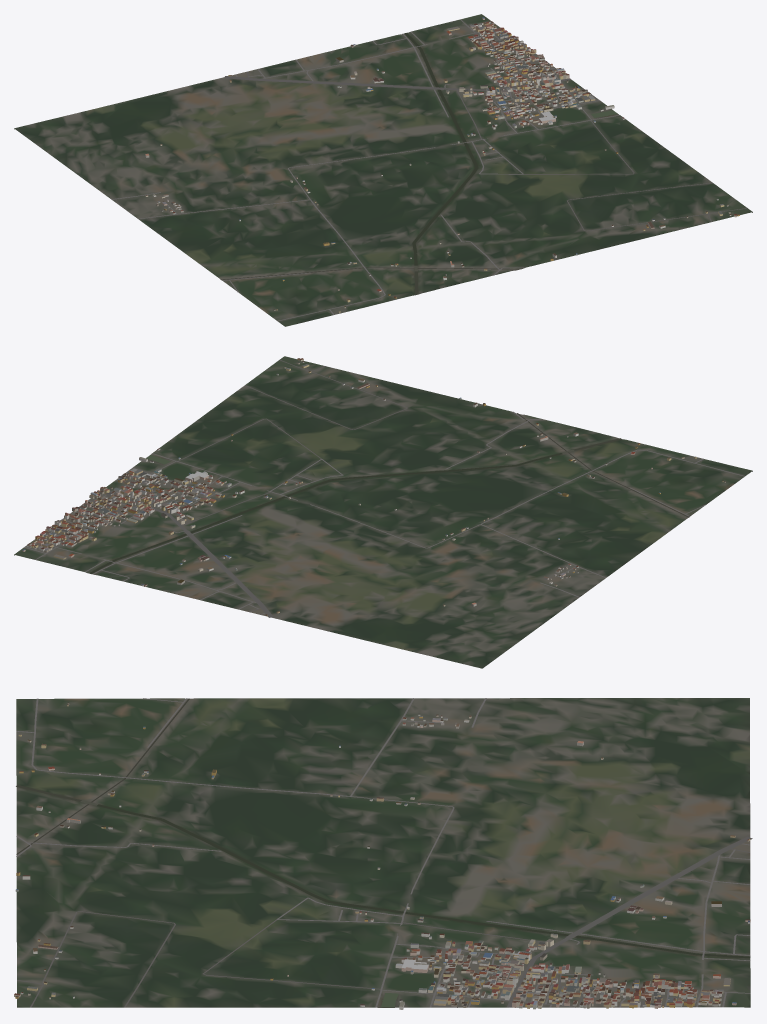
3 renders of one model, top to bottom at view 1: azimuth 30°, elevation 25°; view 2: azimuth 150°, elevation 25°; view 3: azimuth 270°, elevation 25°, orthographic. The views are drawn at different scales.
Visible parts, largest first — view 1: ground, buildings, roads, water; view 2: ground, buildings, roads, water; view 3: ground, buildings, roads, water.
Part boxes in pixels (x1,y1,x2,y2): ground: (14,14,752,326); buildings: (145,17,739,312); roads: (111,19,747,321); water: (221,33,617,294); ground: (14,356,752,668); buildings: (22,358,725,616); roads: (24,359,744,617); water: (89,413,689,573); ground: (16,698,750,1007); buildings: (14,702,750,1009); roads: (16,698,752,1007); water: (16,698,750,1007).
Bounding box in the file's own units: 1410 × 22.64 × 1412.
